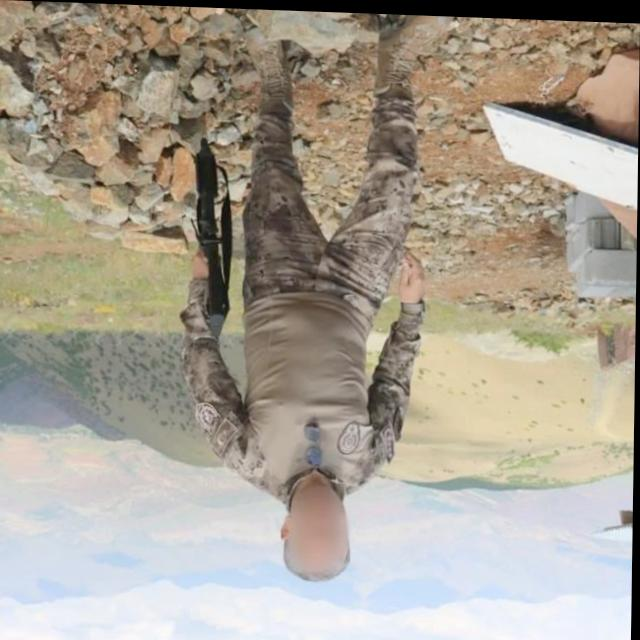poh_personel: (178, 5, 450, 585)
